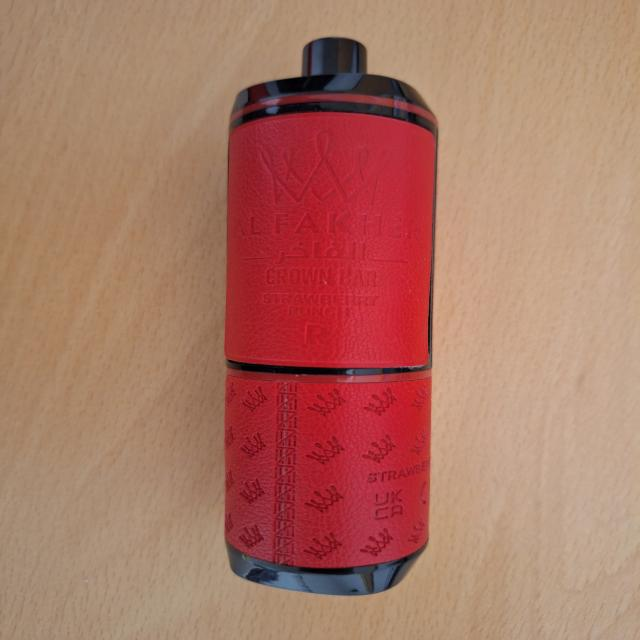Hazard: (222, 36, 439, 596)
